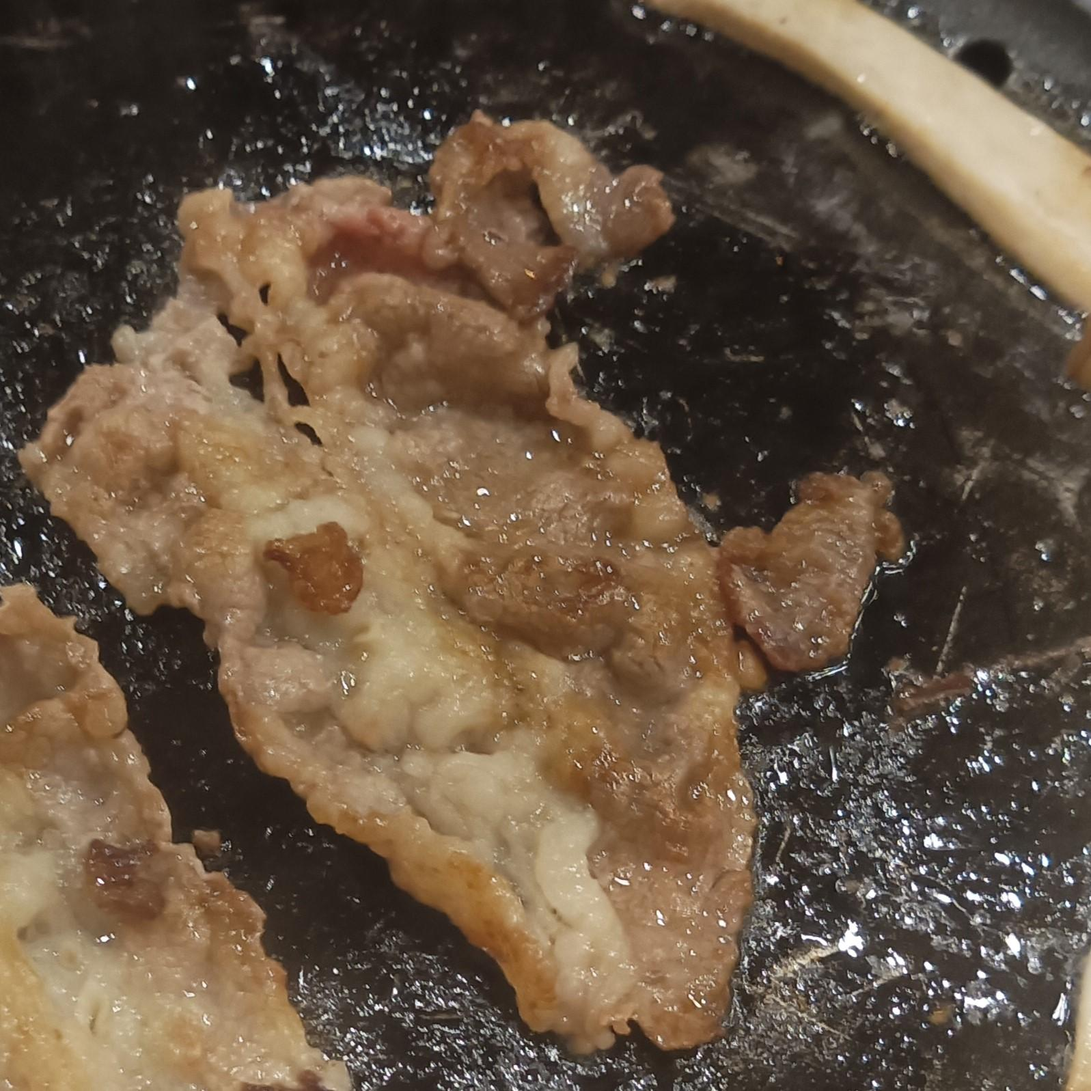Well-Cooked: (14, 122, 892, 1058), (0, 587, 350, 1090)
